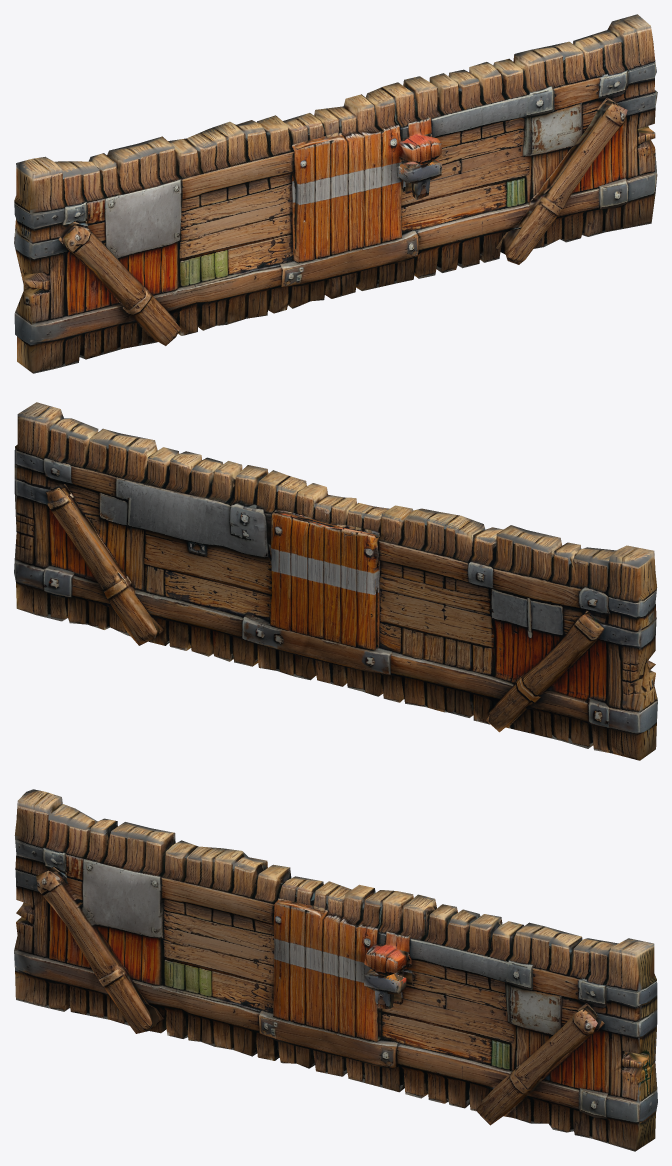
Rendered from Settle_Wall_Wood.fbx.
The picture shows the model from 3 angles, top to bottom: view 1: azimuth 30°, elevation 25°; view 2: azimuth 150°, elevation 25°; view 3: azimuth 330°, elevation 25°; orthographic projection.
Parts seen in each view (by area): view 1: texture_mapping; view 2: texture_mapping; view 3: texture_mapping.
Boxes of the visible parts, left/top/right/bottom form: texture_mapping: left=14, top=14, right=657, bottom=373; texture_mapping: left=14, top=402, right=657, bottom=760; texture_mapping: left=14, top=789, right=657, bottom=1151.
Bounding box in the file's own units: 1 × 0.109 × 0.3106.
Materials: 1 (1 with a texture image).
